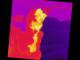Foc: (33, 6, 48, 20), (28, 20, 44, 31), (26, 42, 38, 55), (32, 30, 40, 41)
